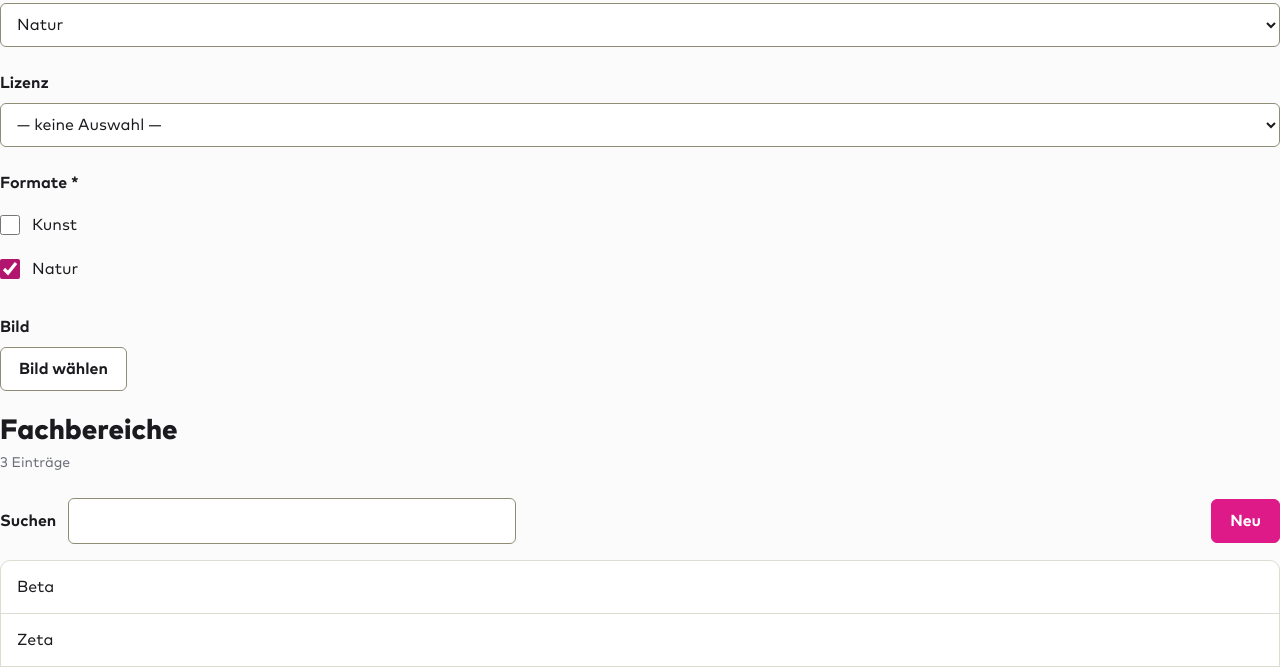
CollectionView › Neu legt einen Eintrag an, oeffnet das Formular; Zurueck zeigt ihn in der Liste
Later steps or results of the test are not shown.
(page scrolled)
Click the button "Neu" at (1246, 521), box [1211,499,1279,543]
(page scrolled)
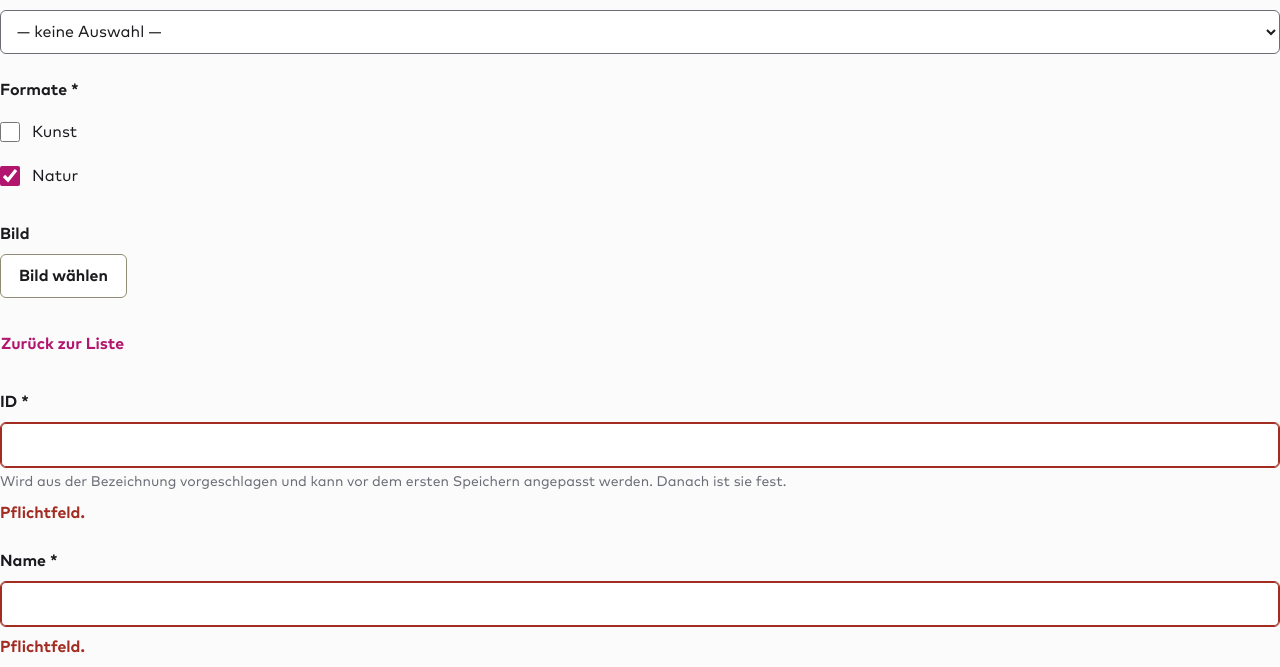
Result: the field with id "field-label" is shown at [0,581,1279,627]
